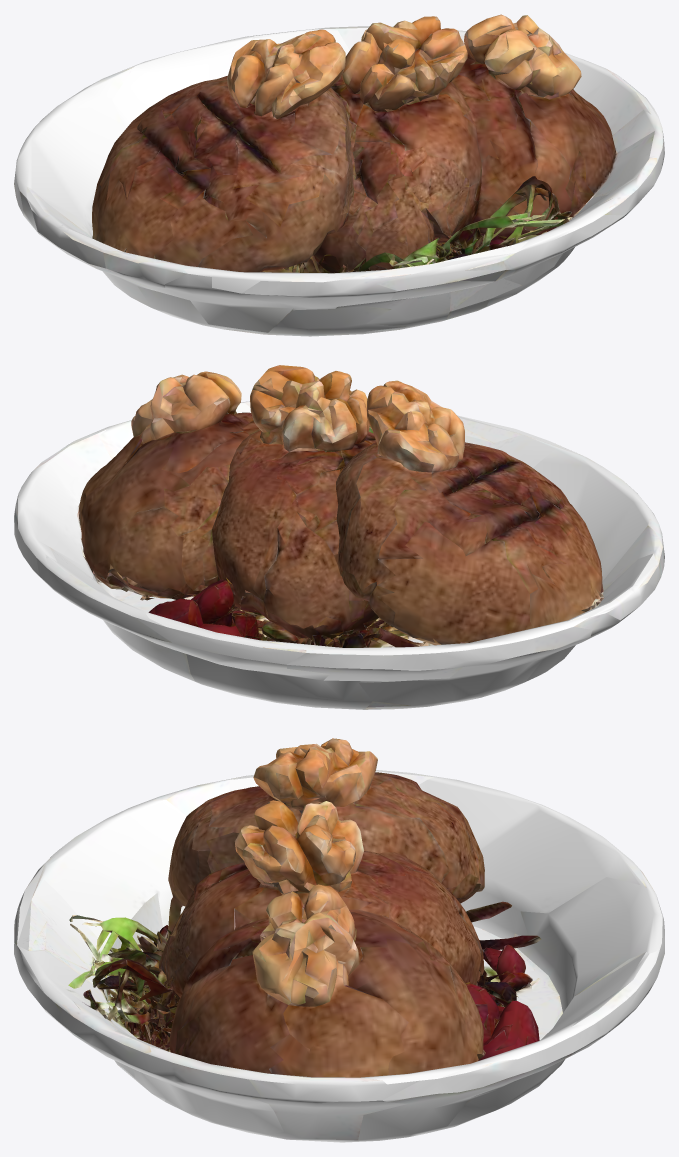
File: kibbeh-sajiyeh.glb
3 renders of one model, top to bottom at view 1: azimuth 30°, elevation 25°; view 2: azimuth 150°, elevation 25°; view 3: azimuth 270°, elevation 25°, orthographic. The views are drawn at different scales.
Size of the model in its own units: 1.9 by 0.7279 by 1.65.
Materials: 1 (1 with a texture image).
